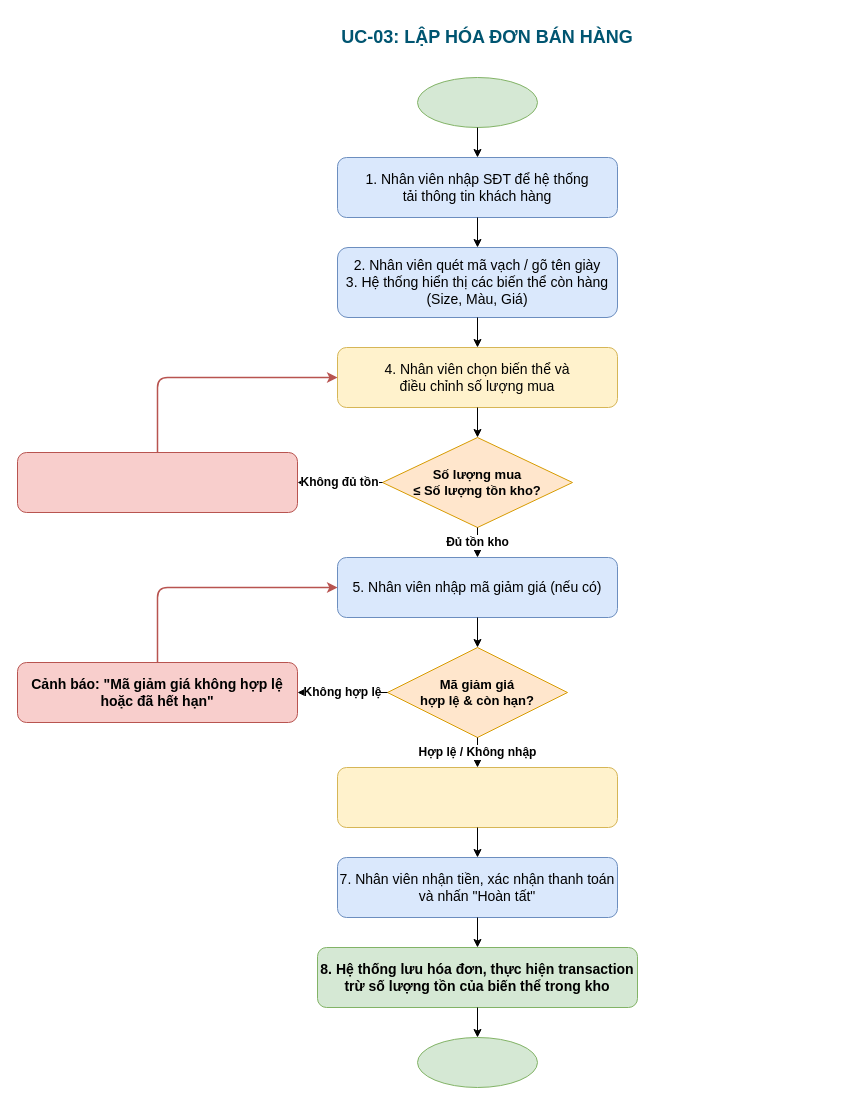
The diagram is 845 pixels wide and 1105 high, and some of its shapes have lost their labels. Here are the shapes that lost their labels. From the top down, the centre of each, then its label:
pixel 477 102: Bắt đầu
pixel 157 482: Cảnh báo đỏ: "Số lượng tồn kho không đủ để đáp ứng" (Không cho thêm vào HĐ)
pixel 477 797: 6. Hệ thống tính tổng tiền, thuế, phí và thành tiền cuối cùng
pixel 477 1062: Kết thúc
